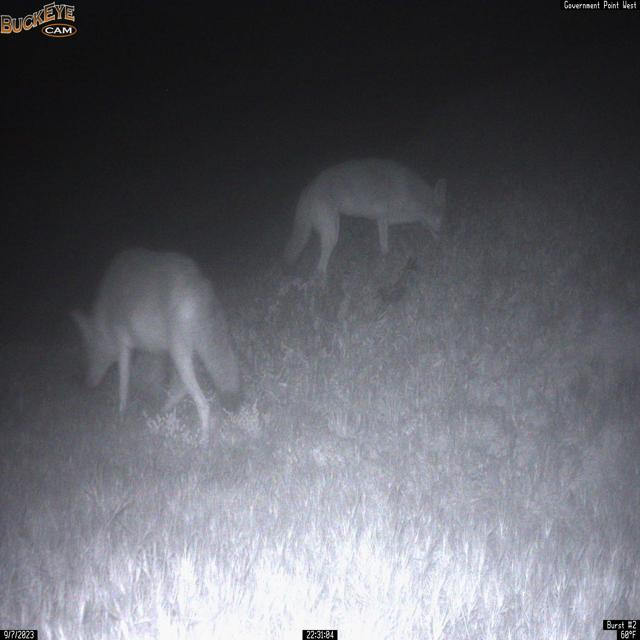coyote: (281, 156, 449, 287)
